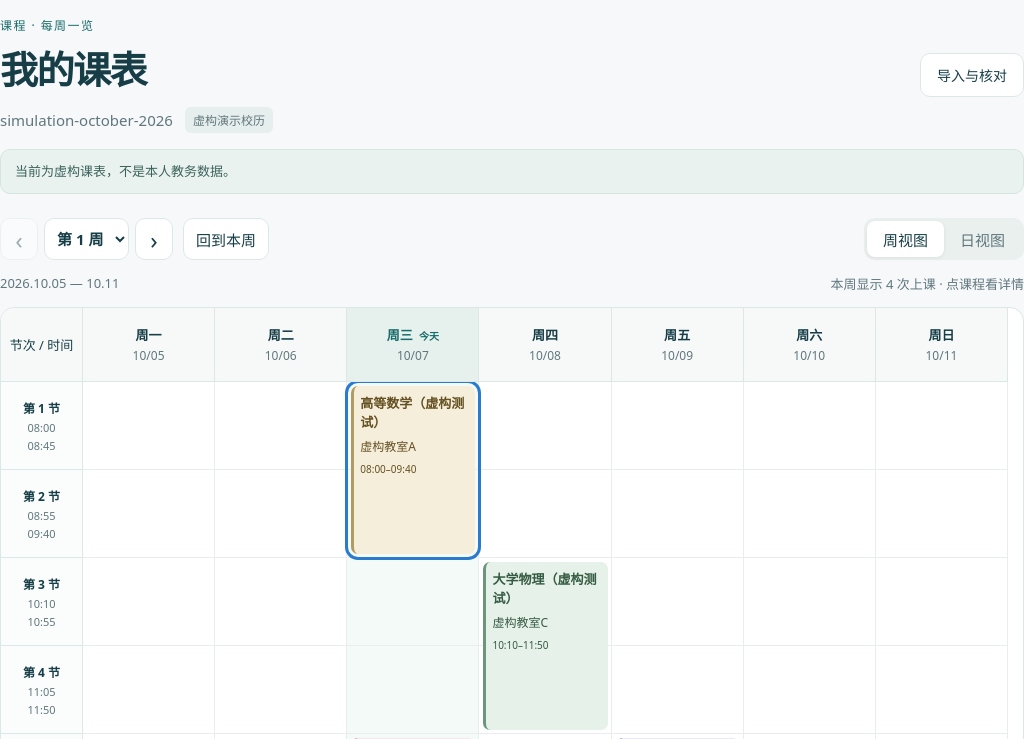
Test: timetable interactions › shows continuous cards and opens details with keyboard focus restored on Escape
The image size is (1024, 739).
Click the button with class "tt-course" showing "高等数学（虚构测试） 虚构教室A 08:00–09:40" at (413, 470), box [351,386,475,554]
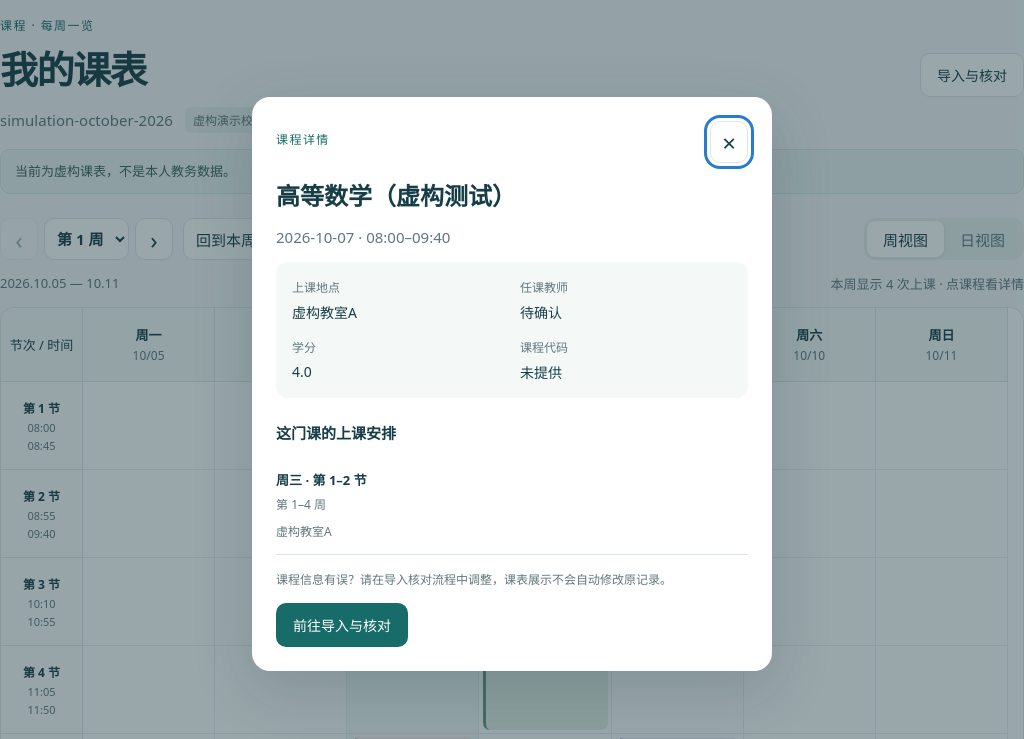
expect the dialog shows "上课地点": met, box [292,279,340,296]
Press Escape in the button "×", box [710,121,748,163]
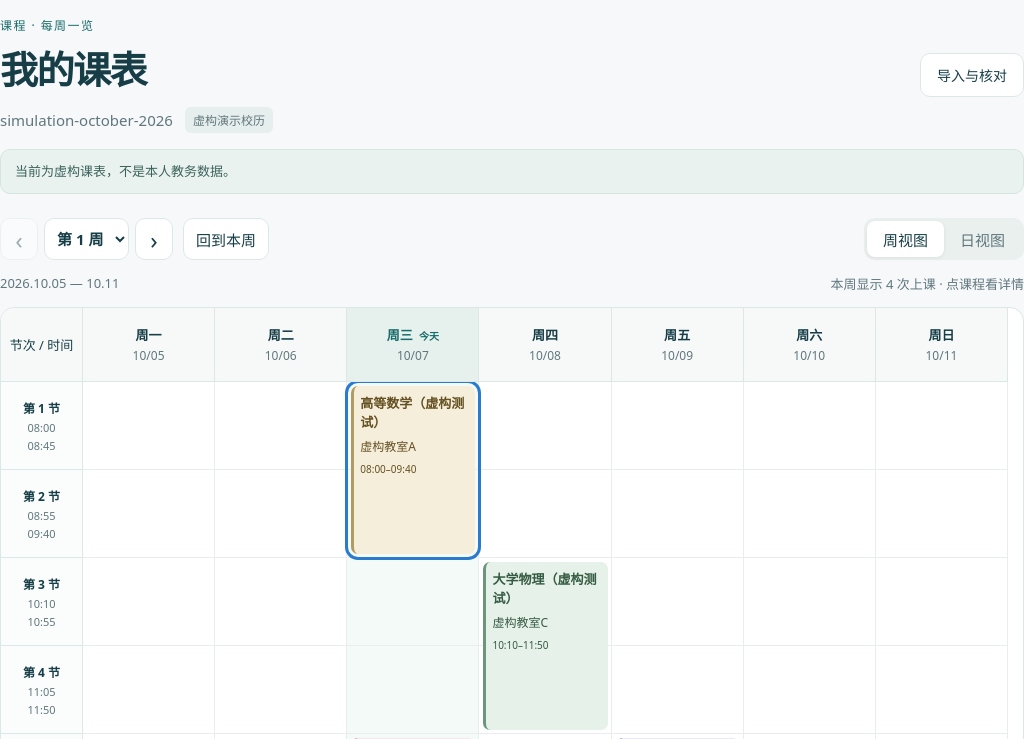
expect the dialog is gone: met
